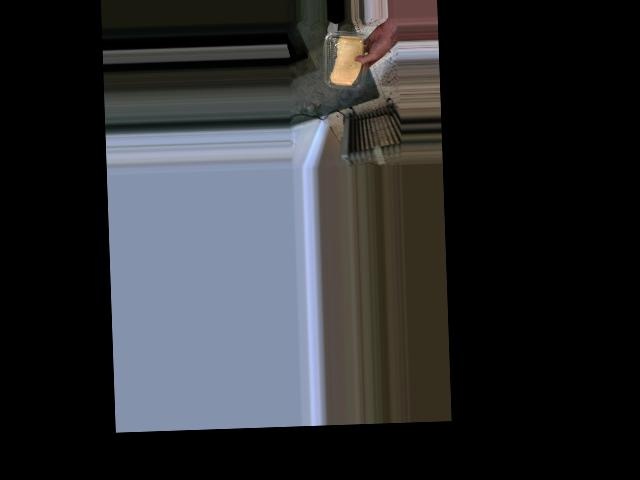cheese: (323, 30, 370, 93)
